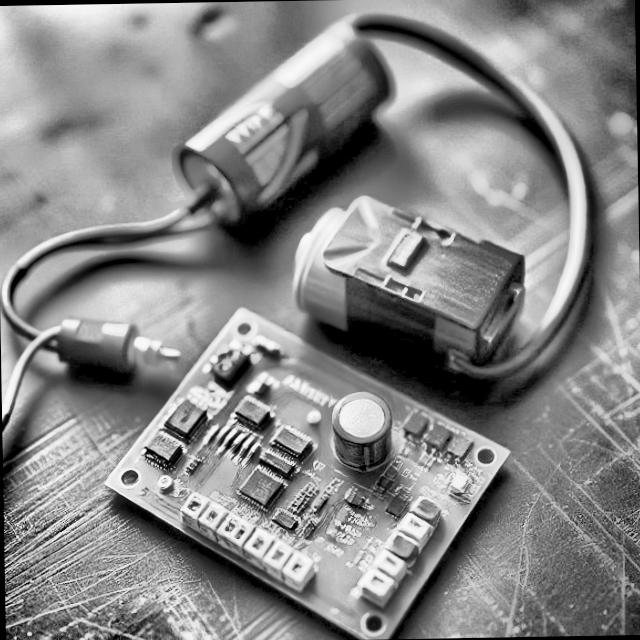Battery: (291, 194, 529, 360)
Cable: (0, 186, 231, 471), (372, 5, 566, 140), (527, 142, 623, 362)
PCB: (96, 299, 516, 640), (172, 14, 403, 218)
